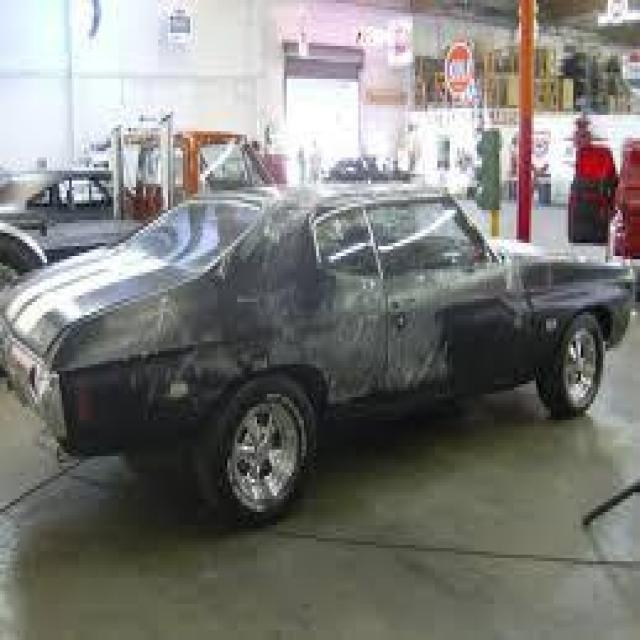damaged: (151, 196, 314, 388), (304, 266, 460, 394)
